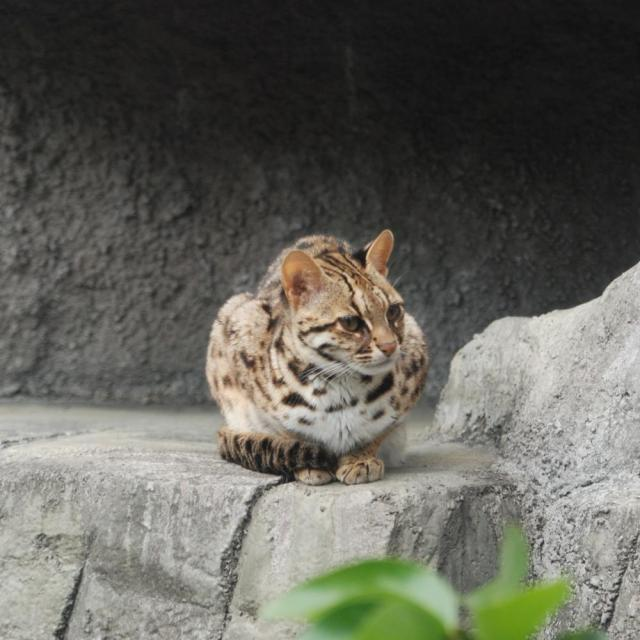leopard: (192, 214, 440, 486)
